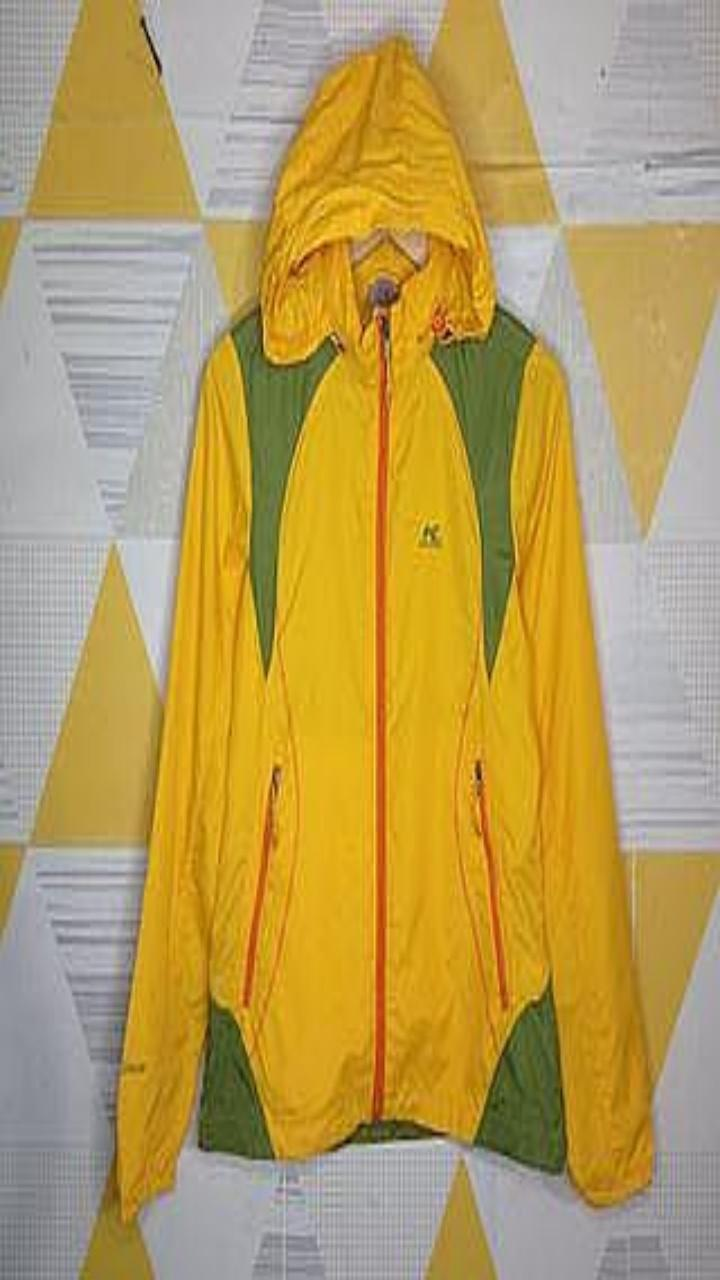Sports_Jacket: (116, 34, 653, 1221)
